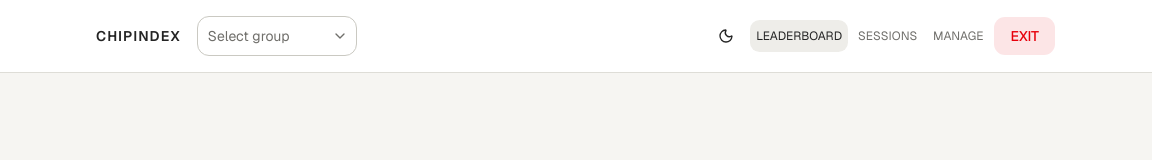
shared dialog and failures › does not navigate when logout fails
Step 1. Click the button "EXIT" → (1025,36), box x1=993 y1=16 x2=1056 y2=56
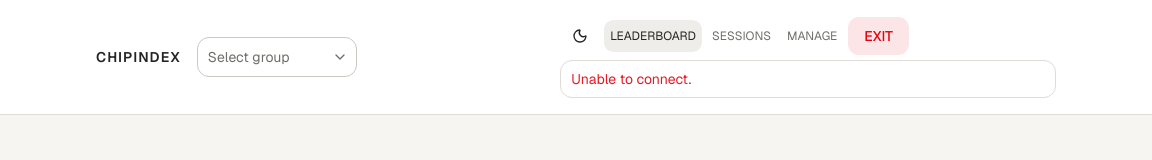
Result: the text "Unable to connect." is shown at x1=571 y1=70 x2=691 y2=88
